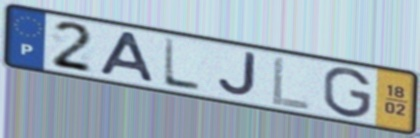2: (47, 19, 98, 75)
A: (96, 30, 157, 85)
G: (321, 66, 374, 119)
J: (215, 50, 259, 100)
L: (269, 53, 313, 112), (161, 35, 204, 94)
